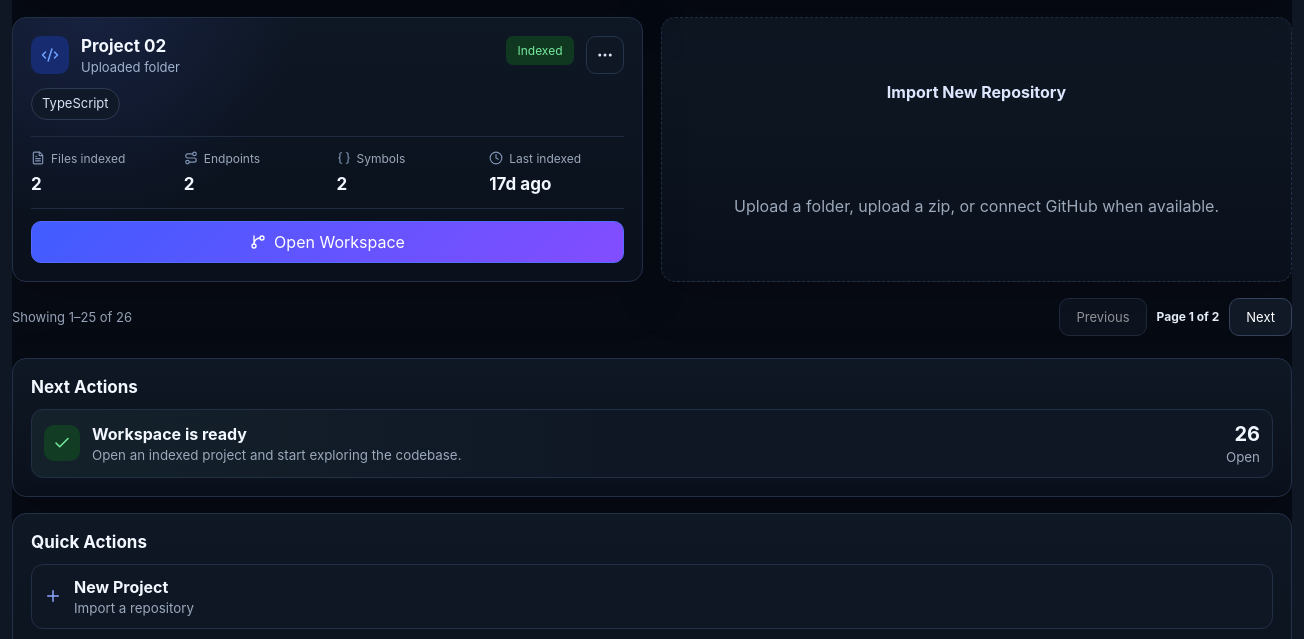
Scenario: ProjectsPage › limits the project list to 25 entries and moves to the next page
(page scrolled)
Expected: the text "Showing 1–25 of 26" is shown, [12,309,132,325]
Click the button "Next": [1261, 317] box [1229,298,1292,336]
(page scrolled)
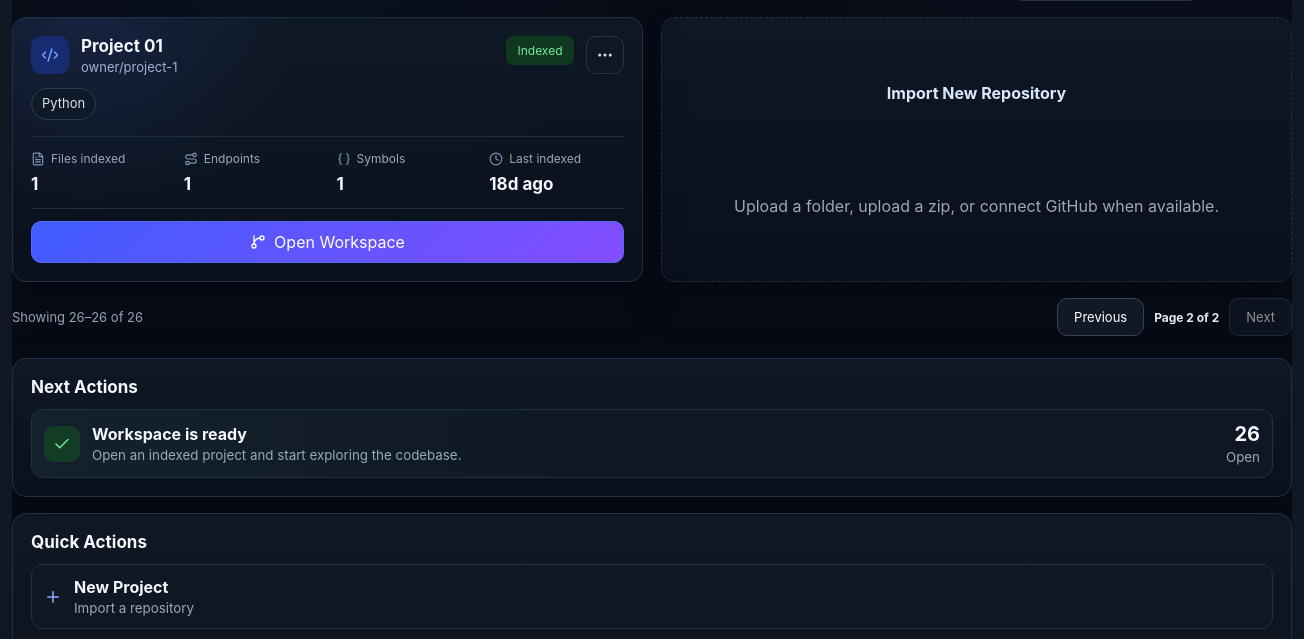
Expected: the text "Showing 26–26 of 26" is shown, [12,309,143,325]
